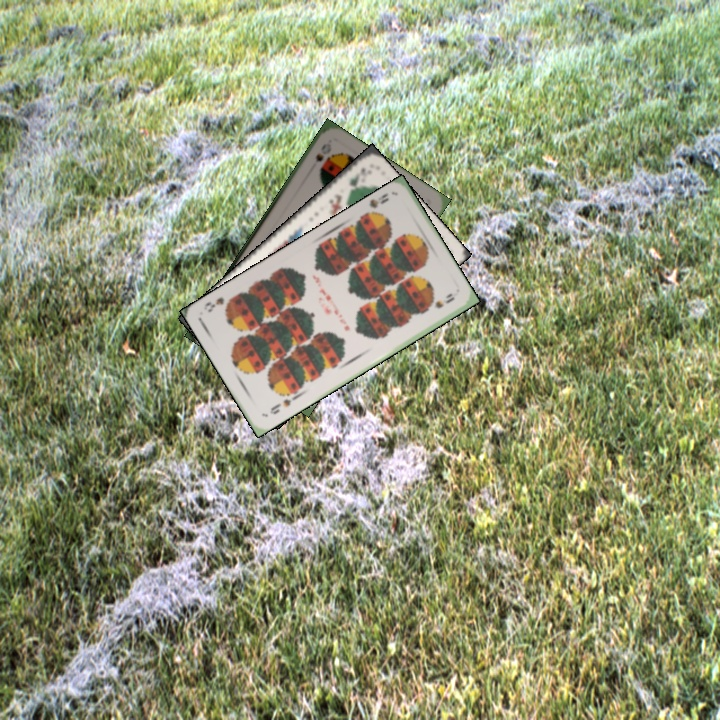GK: (343, 163, 374, 196)
S9: (360, 189, 391, 221), (266, 395, 294, 417)
SO: (311, 139, 334, 165)
